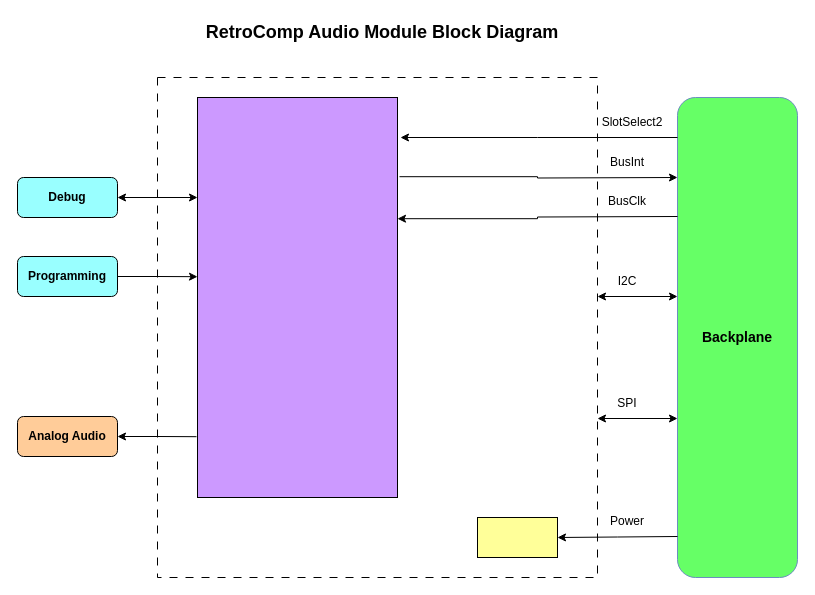
Image size: 815x595. Some labels were removed from this diagram. The shapes that lost their labels are listed below. From the top down, each one's box as (x1, y1, x2, y2) in pixels, then its label:
(196, 96, 398, 498): Arduino
(476, 516, 558, 558): Power Filter
